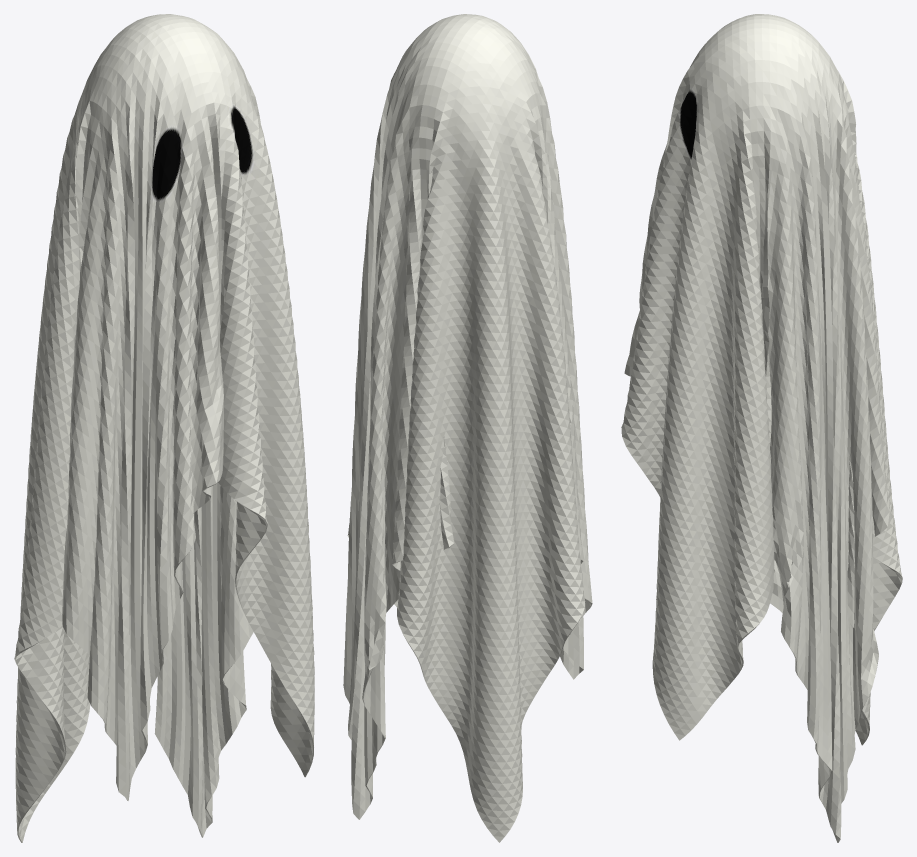
File: ghost_2.glb
3 views of the same model, side by side, from view 1: azimuth 30°, elevation 25°; view 2: azimuth 150°, elevation 25°; view 3: azimuth 270°, elevation 25° (orthographic). The views are drawn at different scales.
Parts seen in each view (by area): view 1: Plane003, Plane003_Material #27_0.001; view 2: Plane003, Plane003_Material #27_0.001; view 3: Plane003, Plane003_Material #27_0.001.
Boxes of the visible parts, x1,y1,x2,y2 form: Plane003: [14, 14, 314, 842]; Plane003_Material #27_0.001: [15, 53, 312, 830]; Plane003: [347, 14, 592, 804]; Plane003_Material #27_0.001: [343, 33, 591, 842]; Plane003: [621, 14, 902, 842]; Plane003_Material #27_0.001: [655, 32, 902, 838].
Size of the model in its own units: 1.29 by 3.86 by 1.25.
1 material, 1 textured.
